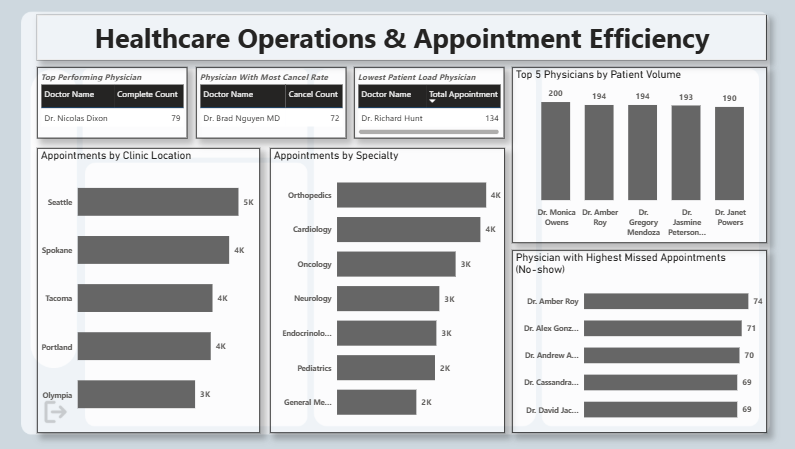

The dashboard page shown, as its layout file describes it:
{"tool":"powerbi","page":{"name":"Operations","canvas":[1280,720],"ordinal":1},"visuals":[{"type":"barChart","title":"Appointments by Clinic Location","fields":{"Category":["doctors.clinic_location"],"Y":["_Measure Table.Total Appointments"]},"box":[63.8,236.9,356.1,455.2],"z":0},{"type":"barChart","title":"Appointments by Specialty","fields":{"Category":["doctors.specialty"],"Y":["_Measure Table.Total Appointments"]},"box":[435.1,236.9,374.6,455.2],"z":1000},{"type":"barChart","title":"Physician with Highest Missed Appointments (No-show)","fields":{"Category":["doctors.doctor_name"],"Y":["_Measure Table.NoShow Count"]},"box":[821.4,399.8,406.5,292.3],"z":2000},{"type":"columnChart","title":"Top 5 Physicians by Patient Volume","fields":{"Category":["doctors.doctor_name"],"Y":["_Measure Table.Total Appointments"]},"box":[821.4,107.5,406.5,280.5],"z":3000},{"type":"tableEx","fields":{"Values":["doctors.doctor_name","_Measure Table.Total Appointments"]},"box":[569.4,107.5,240.2,114.2],"z":4000},{"type":"textbox","box":[63.3,23.3,1165,71.7],"z":5000},{"type":"tableEx","fields":{"Values":["doctors.doctor_name","_Measure Table.Cancel Count"]},"box":[317.5,107.5,240.2,114.2],"z":6000},{"type":"tableEx","fields":{"Values":["doctors.doctor_name","_Measure Table.Complete Count"]},"box":[63.8,107.5,240.2,114.2],"z":7000}]}

Visuals, with their boxes in screenshot pixels (x1, y1, x2, y2), scaled from the page's 1280x720 canvas onto the 795x449 screenshot:
"Appointments by Clinic Location" barChart: (x1=40, y1=148, x2=261, y2=432)
"Appointments by Specialty" barChart: (x1=270, y1=148, x2=503, y2=432)
"Physician with Highest Missed Appointments (No-show)" barChart: (x1=510, y1=249, x2=763, y2=432)
"Top 5 Physicians by Patient Volume" columnChart: (x1=510, y1=67, x2=763, y2=242)
tableEx - doctors.doctor_name x _Measure Table.Total Appointments: (x1=354, y1=67, x2=503, y2=138)
textbox: (x1=39, y1=15, x2=763, y2=59)
tableEx - doctors.doctor_name x _Measure Table.Cancel Count: (x1=197, y1=67, x2=346, y2=138)
tableEx - doctors.doctor_name x _Measure Table.Complete Count: (x1=40, y1=67, x2=189, y2=138)
